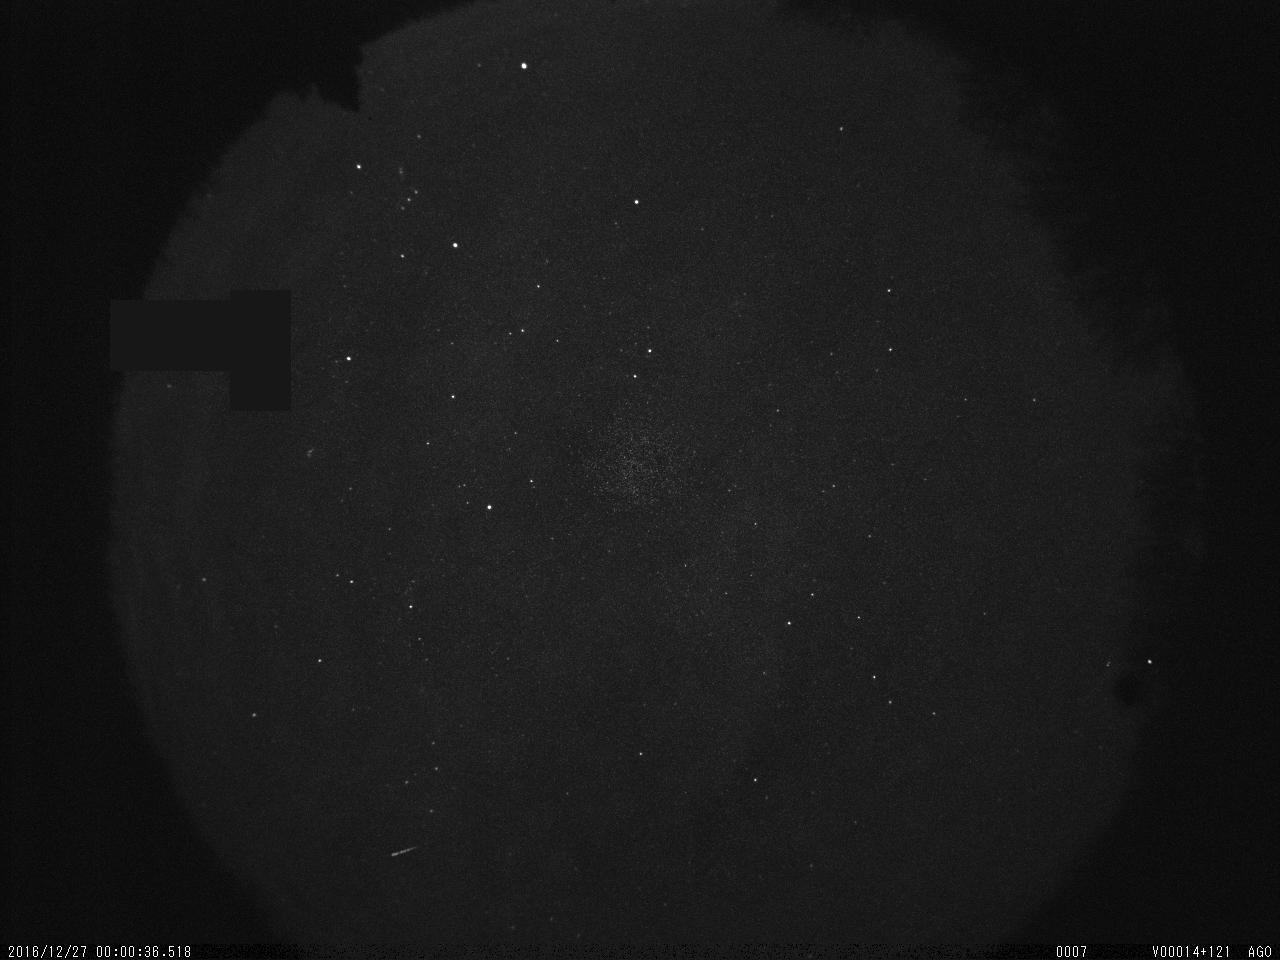meteor: (378, 840, 430, 872)
